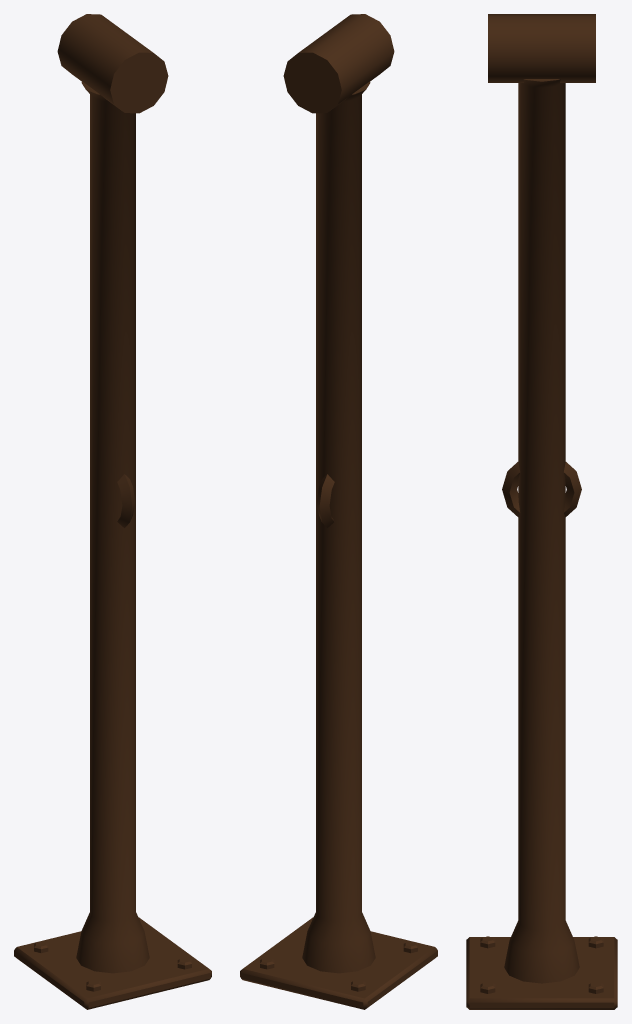
File: rail-stanchion.lod0.glb
3 views of the same model, side by side, from view 1: azimuth 30°, elevation 25°; view 2: azimuth 150°, elevation 25°; view 3: azimuth 270°, elevation 25° (orthographic). The views are drawn at different scales.
Visible parts, largest first — view 1: rail_stanchion_Trim • places palette; view 2: rail_stanchion_Trim • places palette; view 3: rail_stanchion_Trim • places palette.
Part boxes in pixels (<box>): rail_stanchion_Trim • places palette: <box>14,14,211,1009</box>; rail_stanchion_Trim • places palette: <box>240,14,437,1009</box>; rail_stanchion_Trim • places palette: <box>466,14,617,1009</box>.
Size of the model in its own units: 0.14 by 0.982 by 0.14.
1 material, 1 textured.
